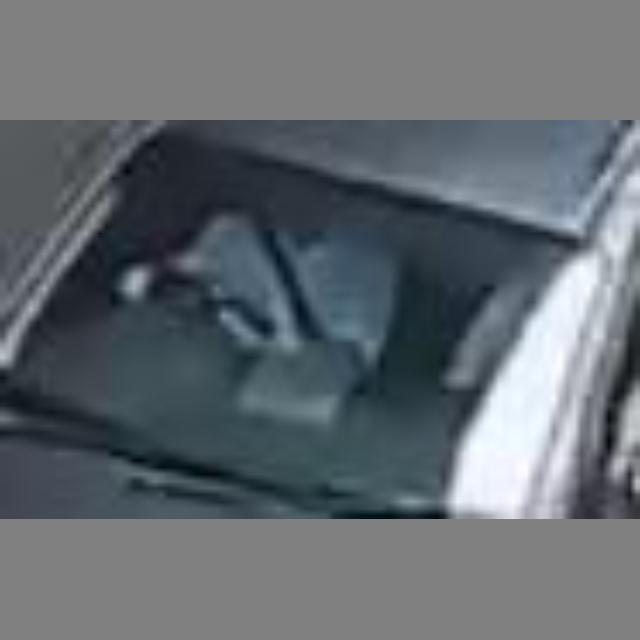pakai: (158, 189, 392, 375)
